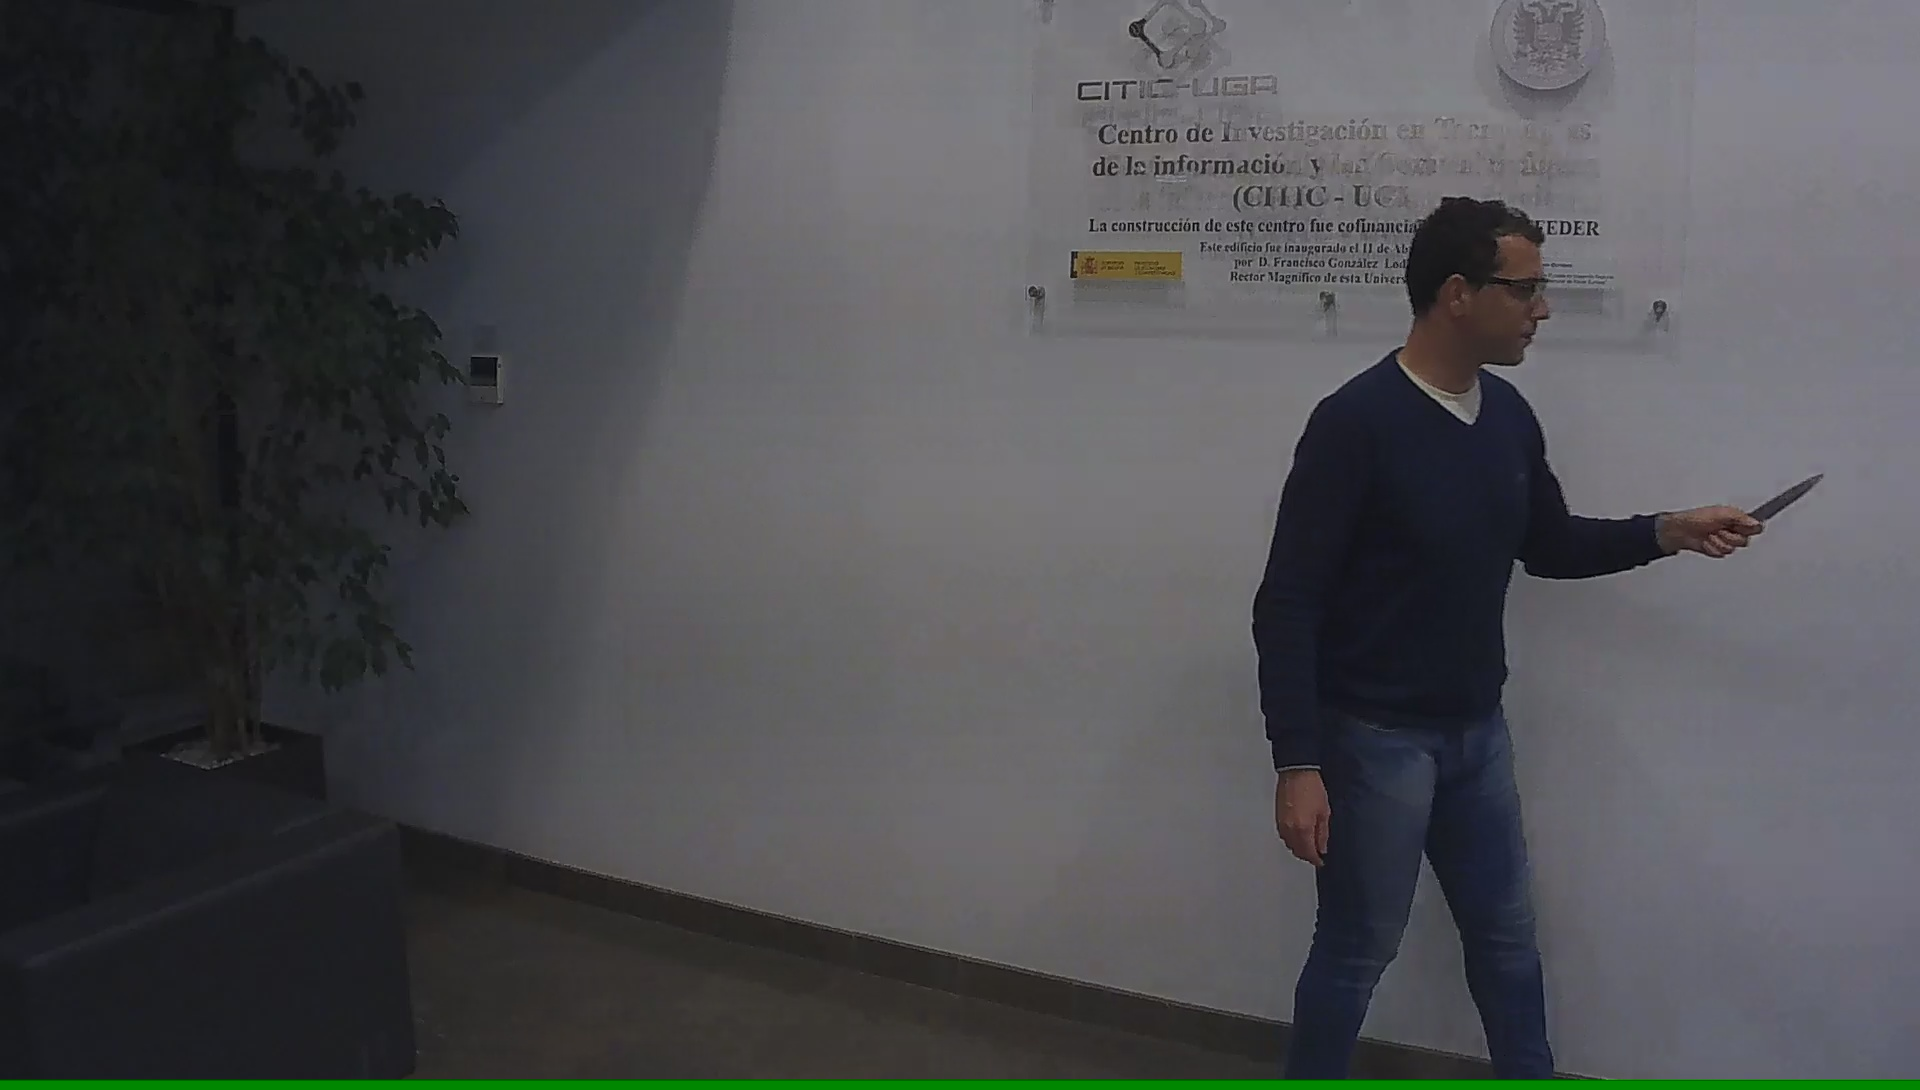knife: (1695, 463, 1840, 561)
